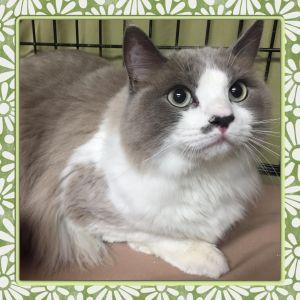ragdoll: (116, 21, 276, 190)
